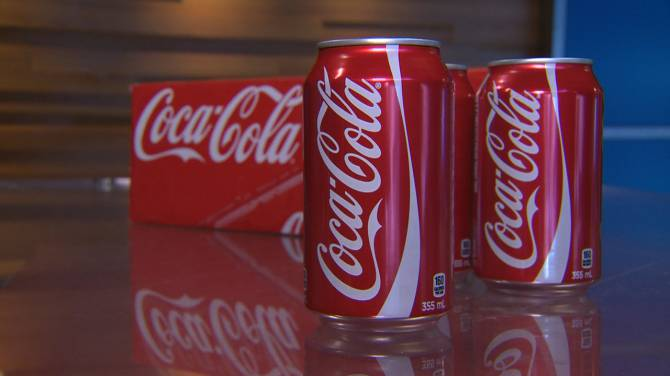coke: (301, 39, 455, 322), (476, 62, 601, 295)
